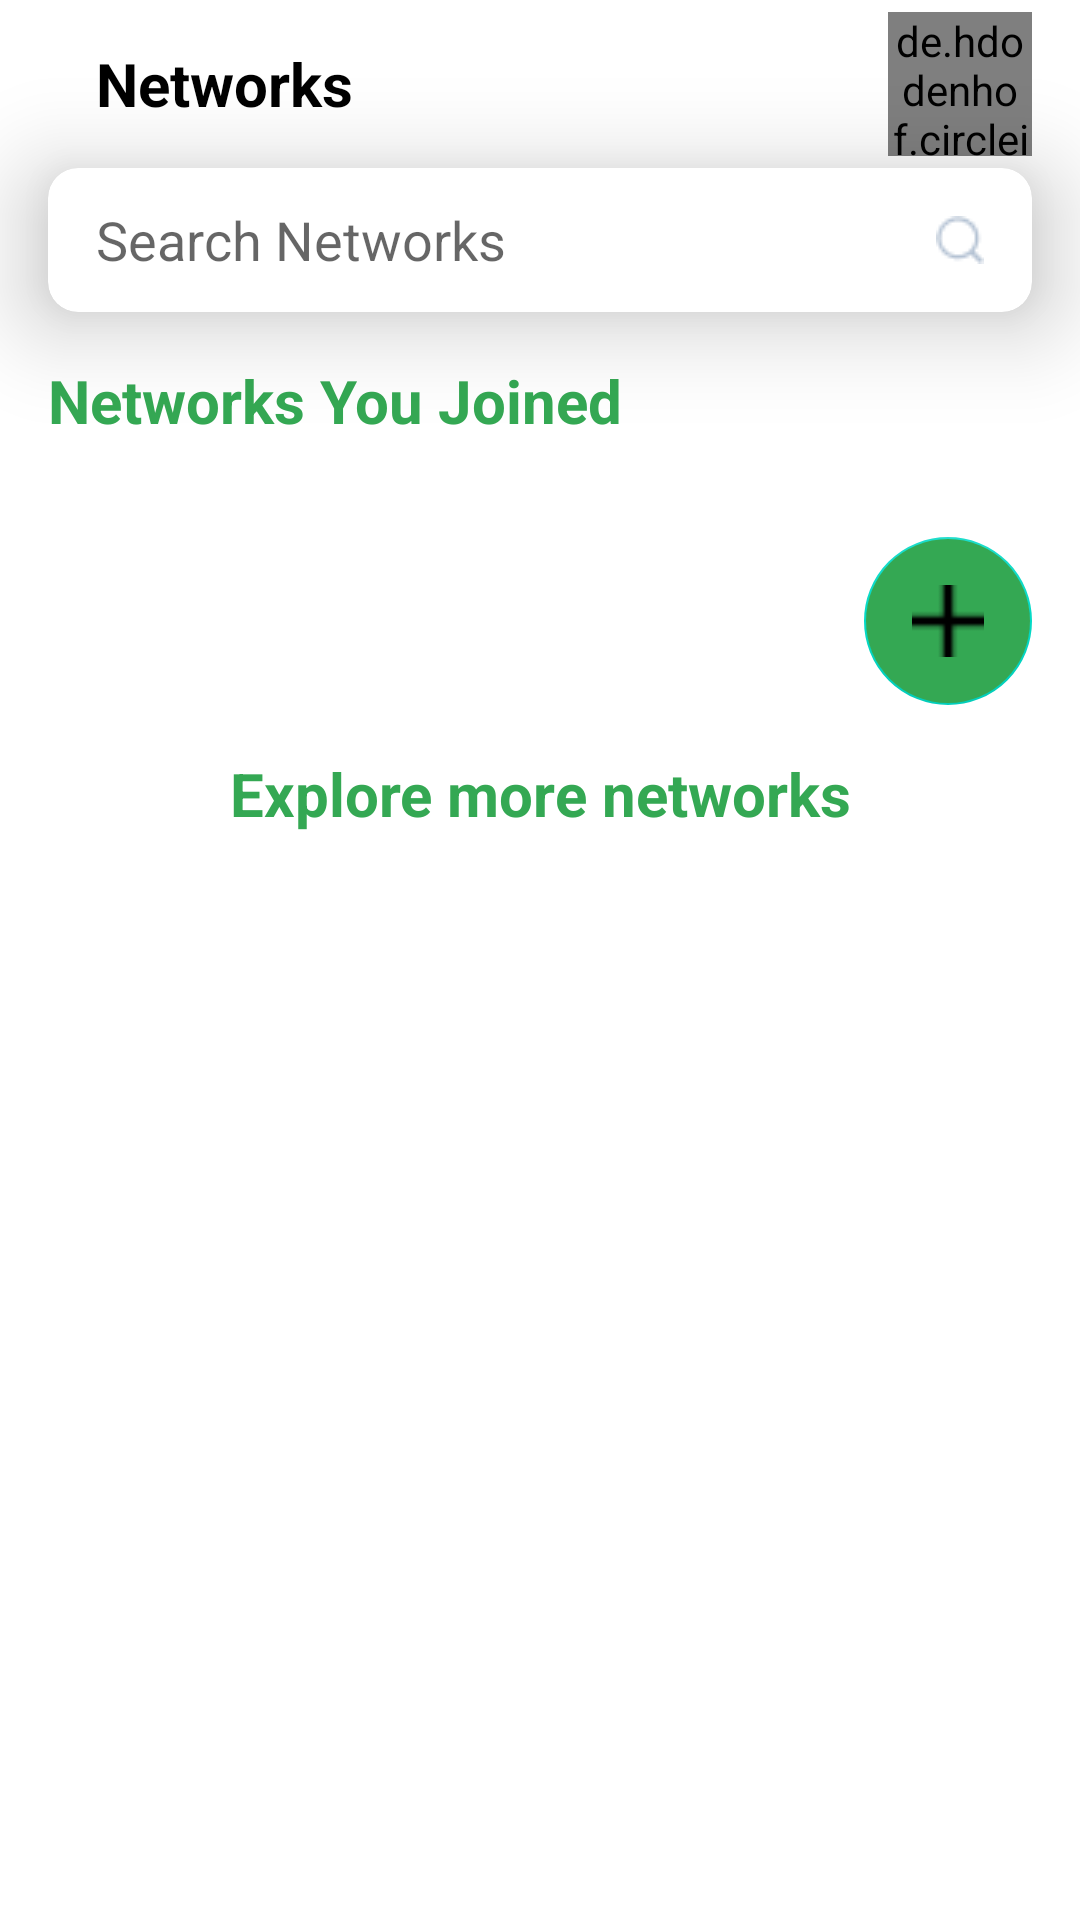

Icon bounding boxes for this 1080w x 1920h phone screenshot, format Rect(x1, y1, x2, y2):
add: Rect(864, 537, 1032, 705)
search: Rect(936, 216, 984, 264)
